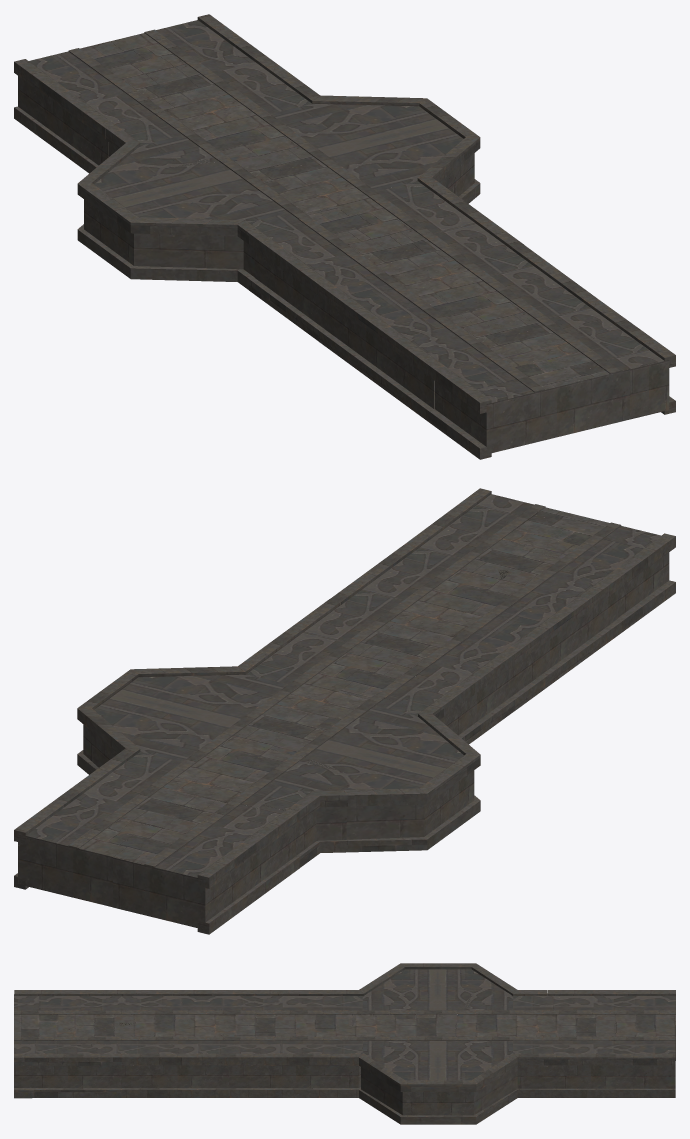
The model's file is SM_Road.glb.
The picture shows the model from 3 angles, top to bottom: view 1: azimuth 30°, elevation 25°; view 2: azimuth 150°, elevation 25°; view 3: azimuth 270°, elevation 25°; orthographic projection. The views are drawn at different scales.
Visible parts, largest first — view 1: SM_MERGED.481, SM_MERGED.482, SM_SM_MERGED.043, SM_MERGED.474, SM_MERGED.477, SM_MERGED.479, SM_MERGED.484, SM_MERGED.478, SM_MERGED.480, SM_MERGED.483, SM_MERGED.475, SM_MERGED.476; view 2: SM_MERGED.481, SM_MERGED.482, SM_MERGED.474, SM_MERGED.484, SM_MERGED.477, SM_MERGED.479, SM_SM_MERGED.043, SM_MERGED.483, SM_MERGED.478, SM_MERGED.480, SM_MERGED.476, SM_MERGED.475; view 3: SM_MERGED.482, SM_MERGED.484, SM_MERGED.480, SM_MERGED.478, SM_MERGED.481, SM_MERGED.475, SM_MERGED.474, SM_MERGED.479, SM_MERGED.477, SM_SM_MERGED.043, SM_MERGED.483, SM_MERGED.476.
Boxes of the visible parts, box(x1,y1,x2,y2) form: SM_MERGED.481: box(77, 151, 340, 289); SM_MERGED.482: box(246, 95, 480, 212); SM_SM_MERGED.043: box(428, 334, 629, 459); SM_MERGED.474: box(14, 41, 199, 173); SM_MERGED.477: box(319, 270, 509, 403); SM_MERGED.479: box(249, 210, 453, 341); SM_MERGED.484: box(110, 14, 319, 122); SM_MERGED.478: box(402, 245, 598, 325); SM_MERGED.480: box(336, 177, 523, 261); SM_MERGED.483: box(105, 102, 259, 167); SM_MERGED.475: box(555, 300, 675, 419); SM_MERGED.476: box(404, 314, 582, 421); SM_MERGED.481: box(270, 688, 480, 852); SM_MERGED.482: box(77, 666, 366, 774); SM_MERGED.474: box(113, 800, 299, 934); SM_MERGED.484: box(14, 748, 215, 907); SM_MERGED.477: box(435, 568, 599, 710); SM_MERGED.479: box(344, 619, 514, 744); SM_SM_MERGED.043: box(475, 502, 675, 630); SM_MERGED.483: box(192, 748, 347, 867); SM_MERGED.478: box(330, 544, 510, 633); SM_MERGED.480: box(238, 599, 397, 691); SM_MERGED.476: box(450, 537, 624, 648); SM_MERGED.475: box(405, 488, 528, 557); SM_MERGED.482: box(356, 1015, 517, 1124); SM_MERGED.484: box(506, 1018, 675, 1097); SM_MERGED.480: box(228, 1019, 362, 1097); SM_MERGED.478: box(119, 1018, 235, 1097); SM_MERGED.481: box(342, 963, 506, 1025); SM_MERGED.475: box(14, 1041, 121, 1098); SM_MERGED.474: box(547, 990, 675, 1060); SM_MERGED.479: box(227, 990, 349, 1035); SM_MERGED.477: box(119, 990, 248, 1027); SM_SM_MERGED.043: box(14, 990, 87, 1045); SM_MERGED.483: box(463, 983, 556, 1033); SM_MERGED.476: box(76, 990, 126, 1046).
Bounding box in the file's own units: 920 × 144 × 2124.
Materials: 2 (2 with a texture image).
